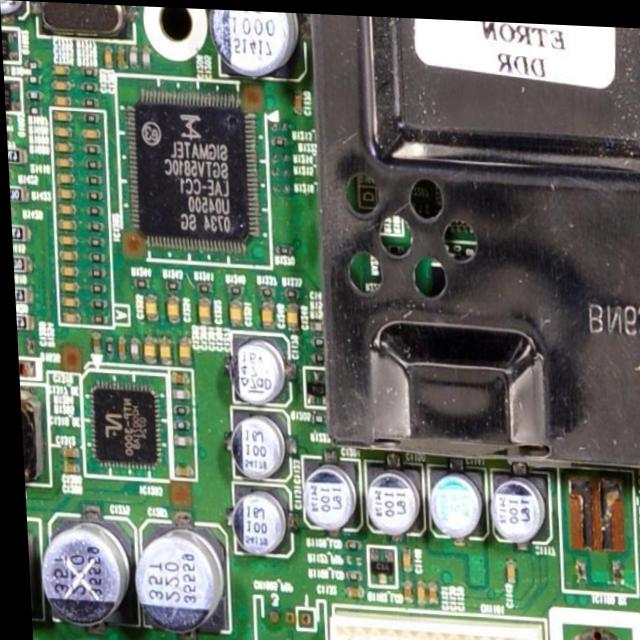IC: (121, 77, 272, 261), (76, 370, 168, 480), (553, 465, 635, 588)
capacitor: (173, 335, 189, 365), (223, 299, 241, 325), (256, 301, 274, 327), (162, 295, 178, 323), (282, 302, 298, 330), (155, 335, 170, 364), (142, 292, 156, 321), (140, 335, 154, 363), (166, 461, 191, 476), (195, 296, 209, 322), (87, 330, 101, 356), (115, 42, 128, 69), (102, 42, 114, 71), (498, 557, 511, 580), (396, 577, 409, 600), (339, 583, 360, 596), (53, 108, 70, 124), (54, 171, 73, 185), (167, 369, 187, 382), (114, 334, 125, 357), (56, 265, 77, 277), (292, 89, 302, 113), (56, 460, 76, 472), (56, 310, 77, 321), (422, 578, 432, 601), (52, 95, 71, 107), (51, 79, 71, 90), (58, 445, 76, 457), (396, 545, 405, 569), (51, 65, 70, 76), (57, 280, 76, 291), (81, 127, 99, 138), (56, 188, 74, 199), (411, 579, 420, 601), (53, 125, 69, 137), (58, 249, 75, 260), (53, 143, 71, 153), (58, 235, 74, 246), (58, 296, 74, 307), (55, 158, 72, 168), (56, 204, 73, 214), (58, 219, 73, 229)
resistor: (126, 276, 150, 292), (84, 262, 104, 280), (83, 294, 105, 309), (168, 416, 189, 431), (84, 310, 106, 324), (280, 282, 299, 298), (83, 220, 103, 235), (222, 281, 242, 296), (270, 240, 291, 254), (83, 281, 104, 295), (193, 278, 211, 294), (82, 236, 104, 249), (84, 247, 103, 262), (83, 172, 101, 187), (160, 278, 179, 292), (79, 80, 99, 93), (80, 95, 100, 108), (83, 189, 101, 203), (79, 65, 97, 78), (84, 204, 102, 217), (83, 159, 100, 172), (81, 143, 101, 154), (256, 284, 272, 297), (167, 404, 187, 414), (82, 111, 99, 122)
transistor: (300, 364, 323, 404)
